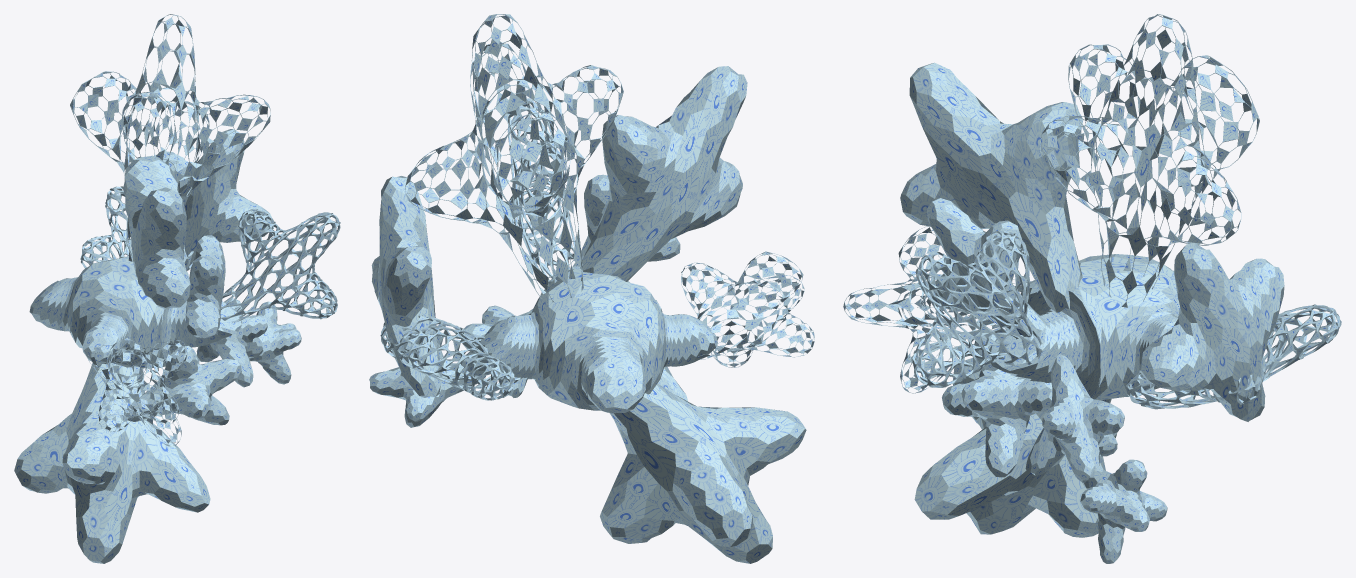
File: corail 1.glb
3 views of the same model, side by side, from view 1: azimuth 30°, elevation 25°; view 2: azimuth 150°, elevation 25°; view 3: azimuth 270°, elevation 25° (orthographic). The views are drawn at different scales.
Parts seen in each view (by area): view 1: DualMesh.011, DualMesh.005, DualMesh.001, DualMesh.004, DualMesh.007, DualMesh.008, DualMesh.010, DualMesh.012, DualMesh.003, DualMesh.014, DualMesh.013, DualMesh.009; view 2: DualMesh.011, DualMesh.005, DualMesh.004, DualMesh.001, DualMesh.008, DualMesh.010, DualMesh.009, DualMesh.007, DualMesh.013, DualMesh.003, DualMesh.014; view 3: DualMesh.004, DualMesh.001, DualMesh.008, DualMesh.005, DualMesh.011, DualMesh.007, DualMesh.014, DualMesh.012, DualMesh.003, DualMesh.009, DualMesh.013, DualMesh.010.
Boxes of the visible parts, x1,y1,x2,y2 form: DualMesh.011: [14, 363, 210, 563]; DualMesh.005: [29, 256, 242, 368]; DualMesh.001: [70, 14, 270, 261]; DualMesh.004: [123, 155, 190, 309]; DualMesh.007: [221, 209, 340, 322]; DualMesh.008: [156, 129, 274, 267]; DualMesh.010: [87, 338, 187, 446]; DualMesh.012: [124, 345, 241, 425]; DualMesh.003: [185, 235, 225, 338]; DualMesh.014: [196, 298, 267, 387]; DualMesh.013: [248, 301, 301, 384]; DualMesh.009: [80, 186, 193, 271]; DualMesh.011: [600, 383, 806, 563]; DualMesh.005: [476, 266, 717, 413]; DualMesh.004: [579, 66, 747, 281]; DualMesh.001: [405, 14, 623, 302]; DualMesh.008: [371, 176, 442, 397]; DualMesh.010: [681, 251, 814, 367]; DualMesh.009: [380, 315, 522, 400]; DualMesh.007: [507, 98, 575, 285]; DualMesh.013: [369, 363, 485, 427]; DualMesh.003: [572, 174, 680, 267]; DualMesh.014: [460, 305, 533, 397]; DualMesh.004: [900, 62, 1083, 312]; DualMesh.001: [1040, 14, 1259, 307]; DualMesh.008: [1139, 243, 1284, 421]; DualMesh.005: [989, 254, 1179, 400]; DualMesh.011: [914, 357, 1116, 537]; DualMesh.007: [912, 230, 1042, 387]; DualMesh.014: [1025, 353, 1124, 482]; DualMesh.012: [942, 334, 1052, 477]; DualMesh.003: [926, 198, 1047, 337]; DualMesh.009: [1125, 304, 1341, 409]; DualMesh.013: [1080, 459, 1167, 563]; DualMesh.010: [843, 226, 1031, 393].
Size of the model in its own units: 6.43 by 9.6 by 7.2.
Materials: 12 (12 with a texture image).
